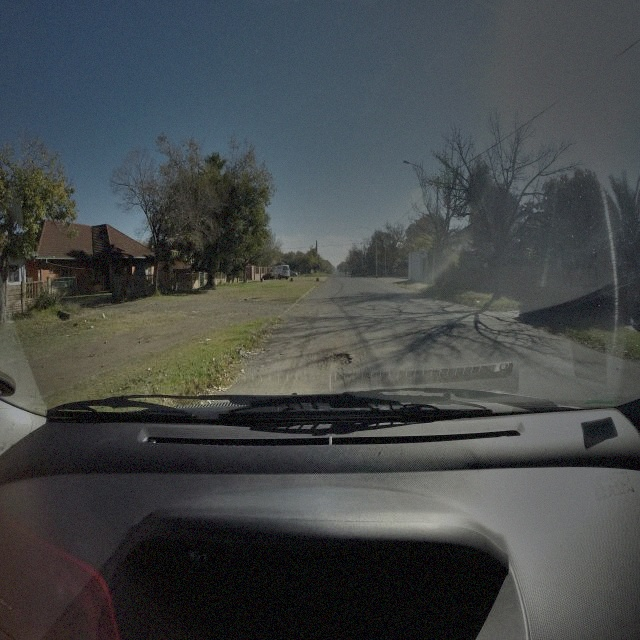pothole: (327, 350, 352, 366)
